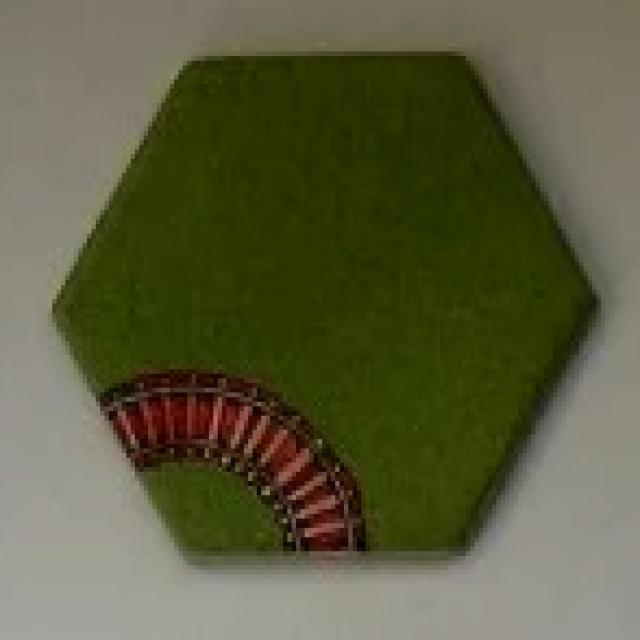1_0: (48, 52, 601, 566)
